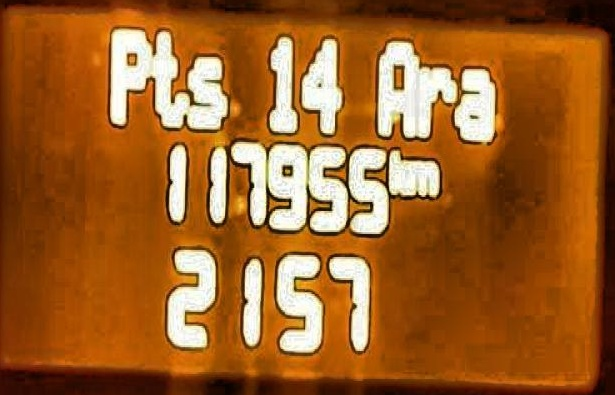1: (263, 23, 298, 138), (235, 241, 265, 358), (164, 134, 190, 225), (206, 138, 226, 230)
2: (162, 241, 219, 351)
4: (301, 30, 346, 136)
5: (277, 246, 321, 357), (348, 138, 387, 239), (308, 135, 347, 236)
7: (327, 251, 371, 354), (230, 134, 265, 228)
9: (267, 138, 306, 233)
X: (107, 20, 151, 126), (376, 34, 415, 144), (151, 21, 186, 133), (186, 46, 228, 131), (416, 57, 452, 143), (456, 60, 493, 141), (409, 152, 440, 198), (388, 143, 407, 196)
